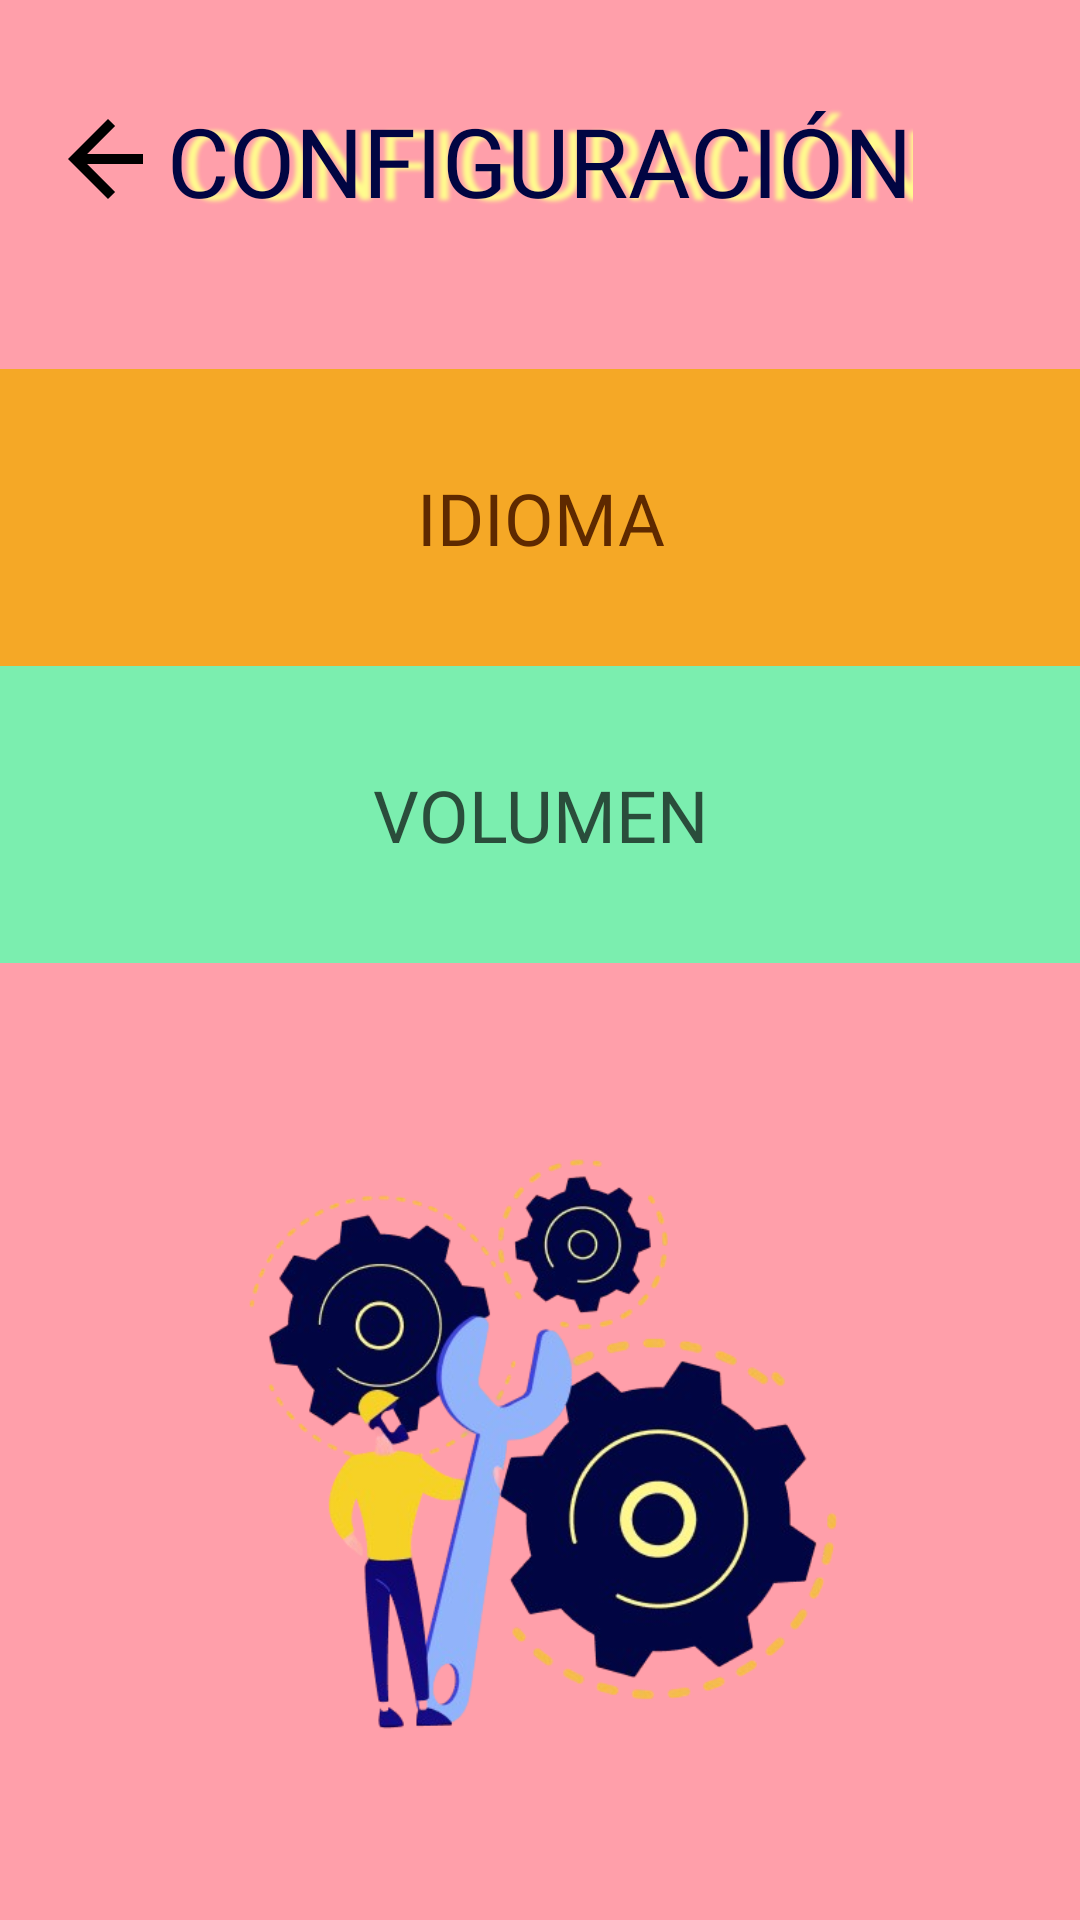

Where icons sit on this 1080w x 1920h app screen, as (x1, y1, x2, y2):
Volver: (68, 119, 143, 199)
